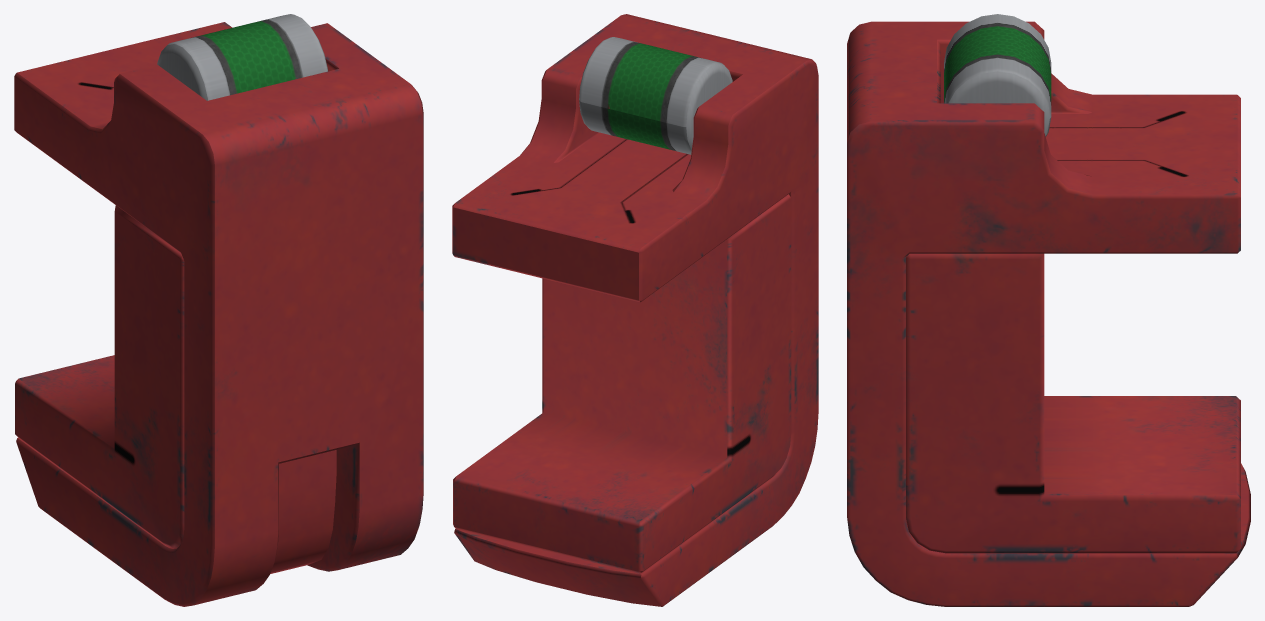
File: SM_Armour_ExpResist_Upper.fbx
The picture shows the model from 3 angles, left to right: view 1: azimuth 30°, elevation 25°; view 2: azimuth 150°, elevation 25°; view 3: azimuth 270°, elevation 25°; orthographic projection. The views are drawn at different scales.
Visible parts, largest first — view 1: SM_Armour_ExpResist_Upper; view 2: SM_Armour_ExpResist_Upper; view 3: SM_Armour_ExpResist_Upper.
Boxes of the visible parts, x1,y1,x2,y2 form: SM_Armour_ExpResist_Upper: (14,14,423,606); SM_Armour_ExpResist_Upper: (452,14,818,606); SM_Armour_ExpResist_Upper: (847,14,1250,606).
Bounding box in the file's own units: 33.87 × 79.54 × 56.45.
1 material, 1 textured.
